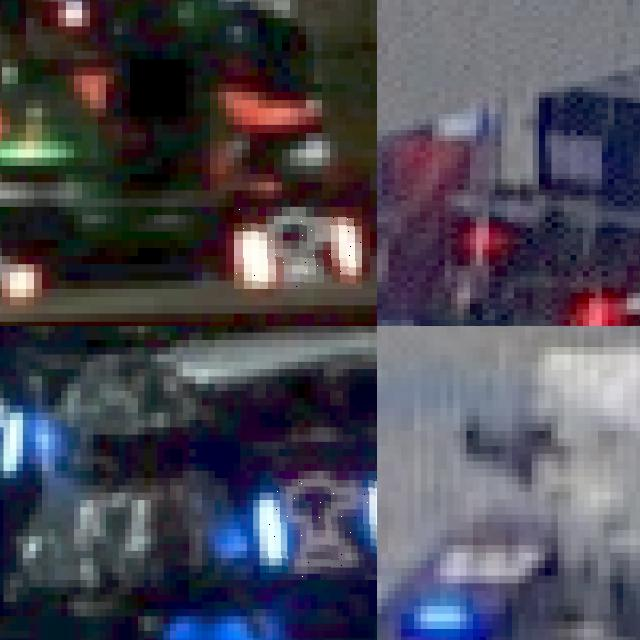B3: (401, 507, 558, 629)
Bs: (259, 471, 377, 580)
R2: (557, 282, 640, 326)
Rs: (234, 207, 362, 289)
